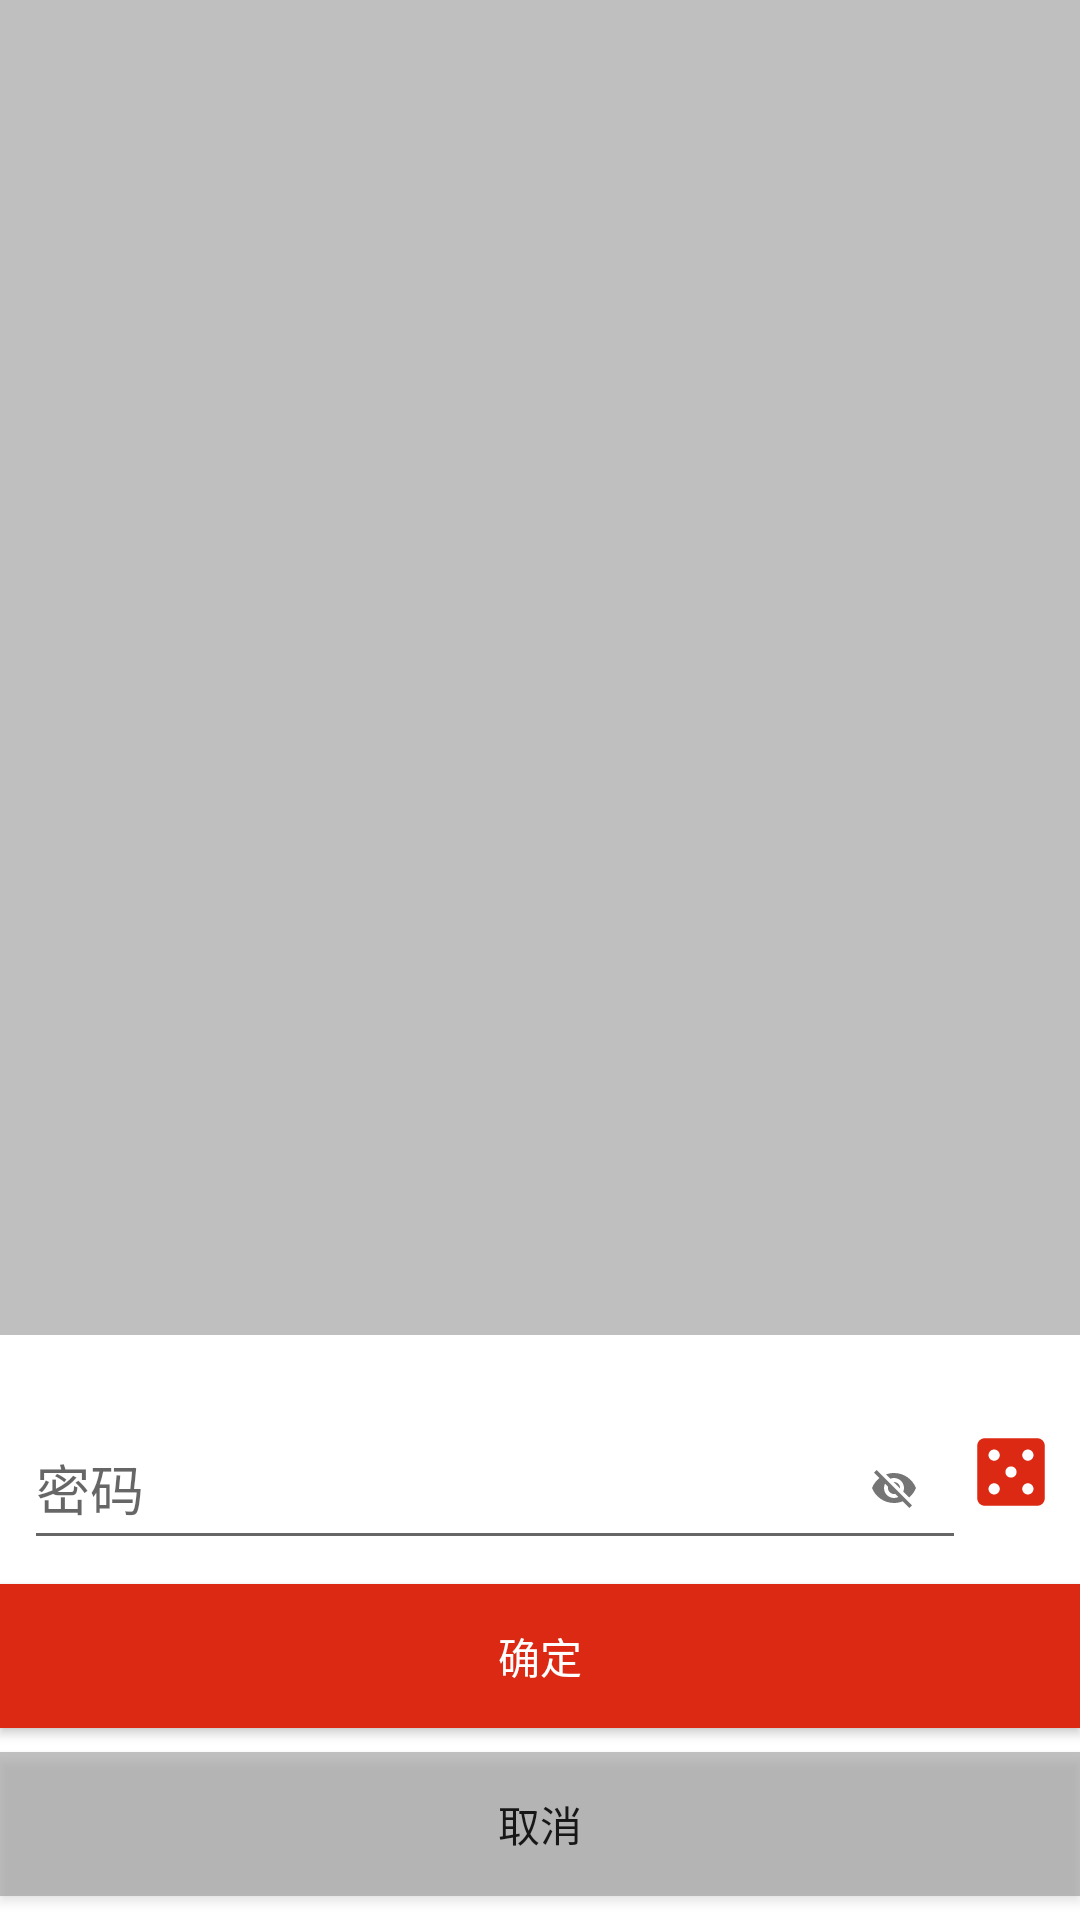

Icons on this 1080x1920 Android screen, each with the point to tap as (x,y):
random: (1011,1472)
